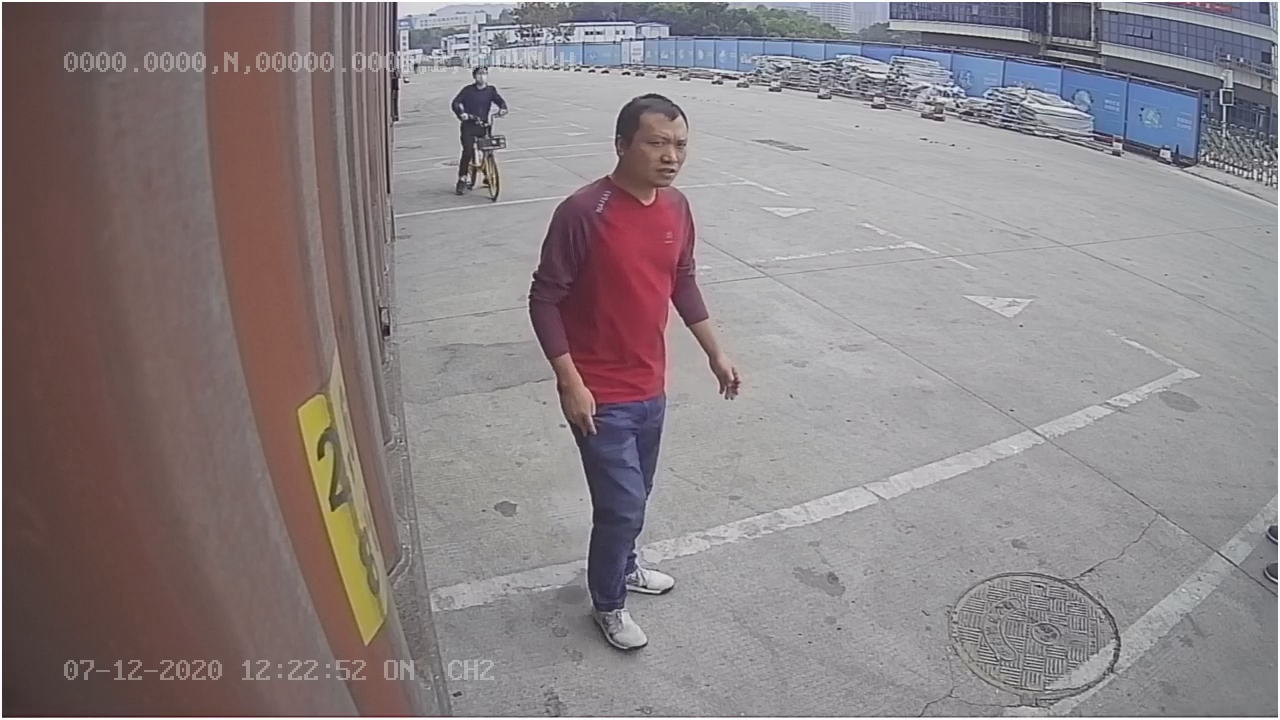person: (523, 86, 749, 656)
